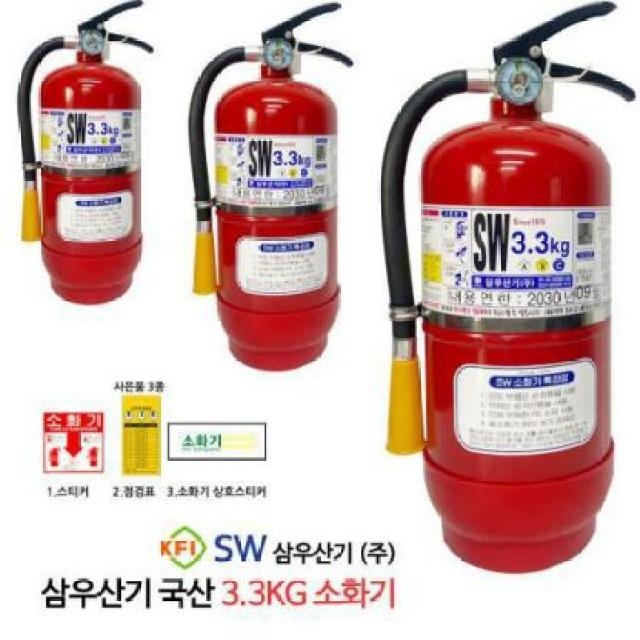fire extinguisher: (378, 1, 637, 574), (186, 1, 354, 374), (16, 0, 155, 306)
